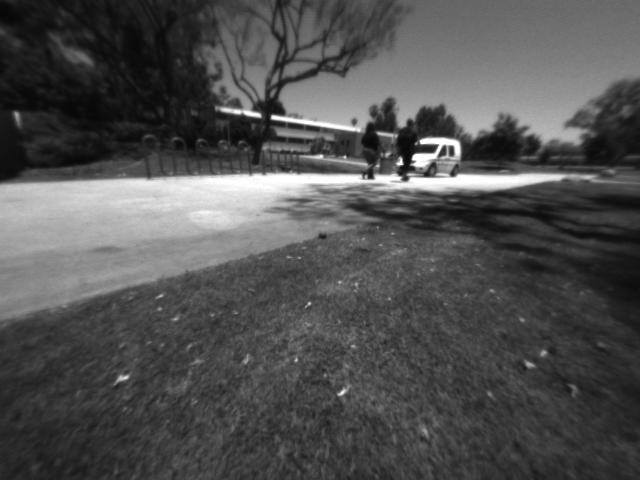dogtoy: (311, 226, 334, 245)
